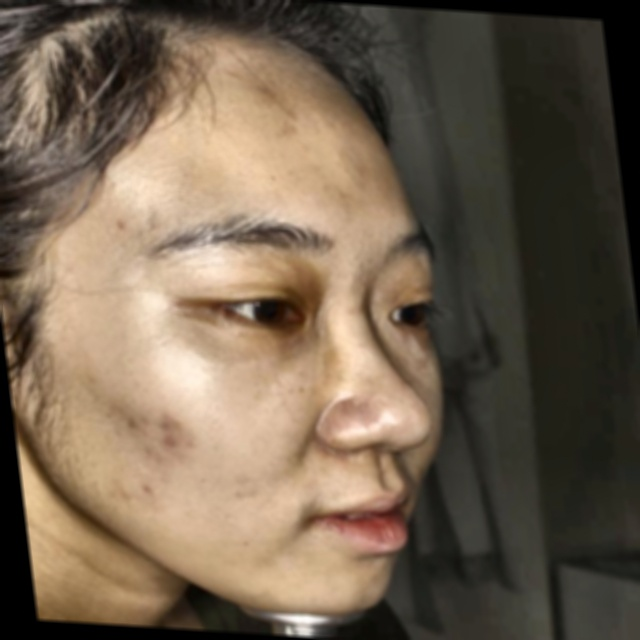comedone: (154, 414, 180, 449)
